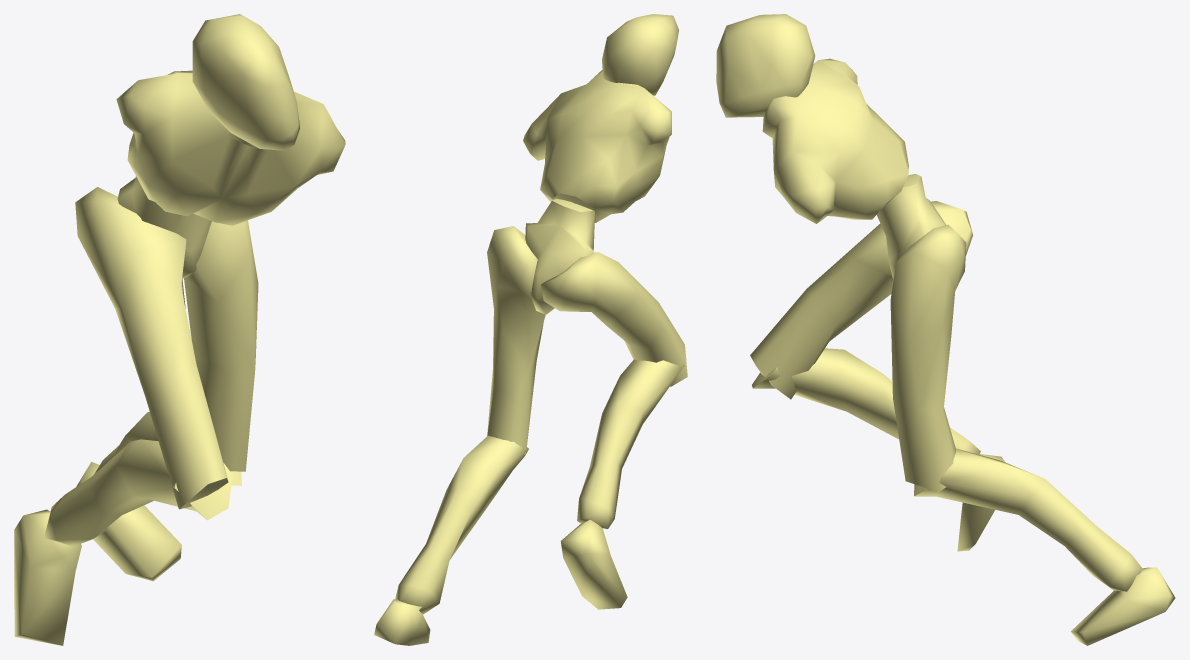
The model's file is filth30.obj.
The picture shows the model from 3 angles, left to right: view 1: azimuth 30°, elevation 25°; view 2: azimuth 150°, elevation 25°; view 3: azimuth 270°, elevation 25°; orthographic projection. The views are drawn at different scales.
Parts seen in each view (by area): view 1: Melee_Husk; view 2: Melee_Husk; view 3: Melee_Husk.
Boxes of the visible parts, <box> form: Melee_Husk: <box>14,14,345,645</box>; Melee_Husk: <box>374,14,687,645</box>; Melee_Husk: <box>716,14,1175,645</box>.
Size of the model in its own units: 22.15 by 64.69 by 46.35.
